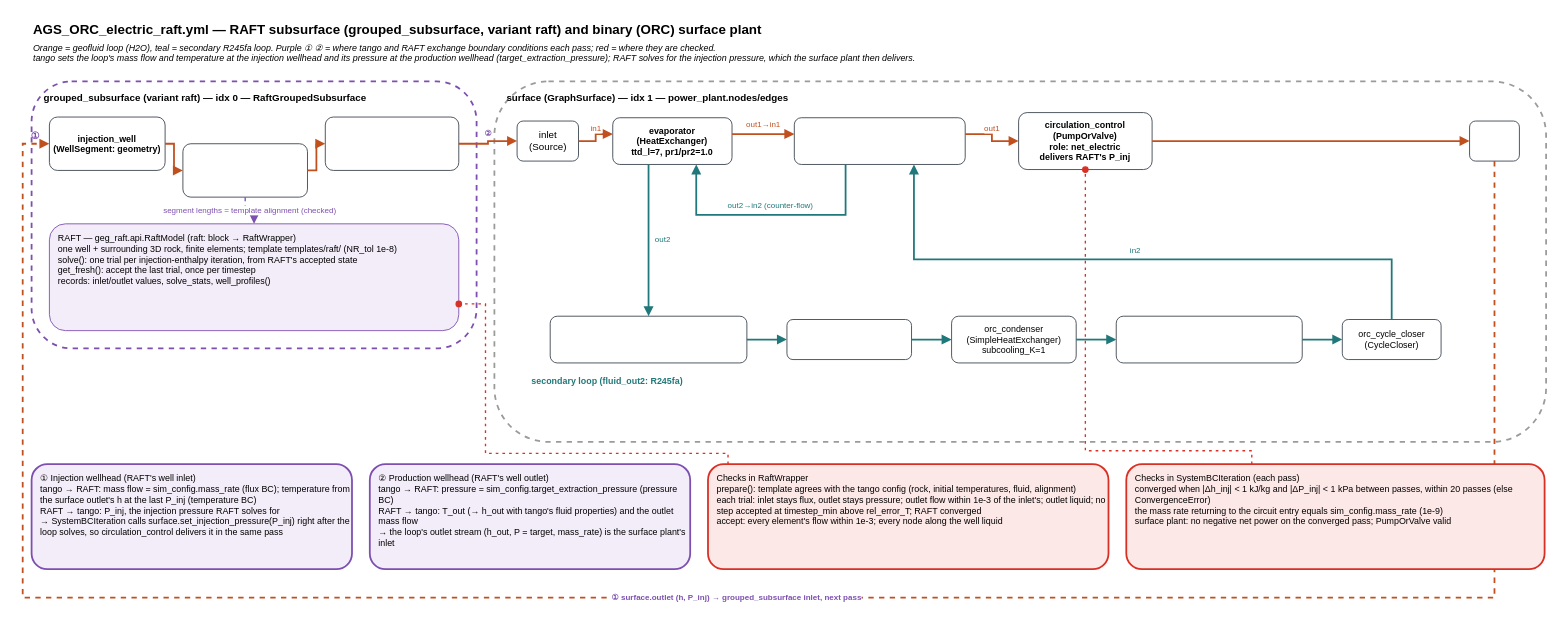
Some shapes in this 1562 by 620 pixel diagram are drawn without their labels. Here are the shapes that lost their labels. From the top down, the centre of each, then its label:
At point 391,143: "production_well (WellSegment)".
At point 879,140: "preheater (HeatExchanger) pr1/pr2=1.0, fluid_out2=R245fa".
At point 1494,140: "outlet (Sink)".
At point 244,170: "horizontal_well (WellSegment)".
At point 648,339: "orc_turbine (Turbine) role: net_electric, p_out=0.15 MPa".
At point 849,339: "orc_desuperheater (SimpleHeatExchanger)".
At point 1208,339: "orc_feed_pump (Compressor) role: net_electric, p_out=0.5 MPa".
